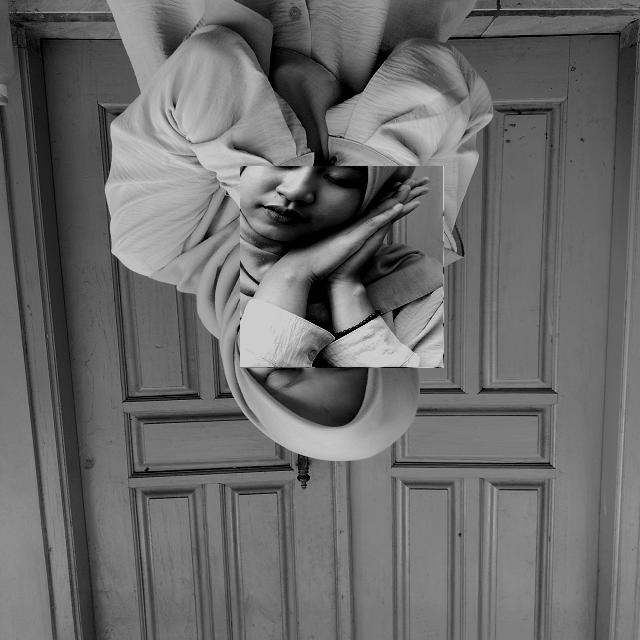tidur: (240, 165, 444, 368)
